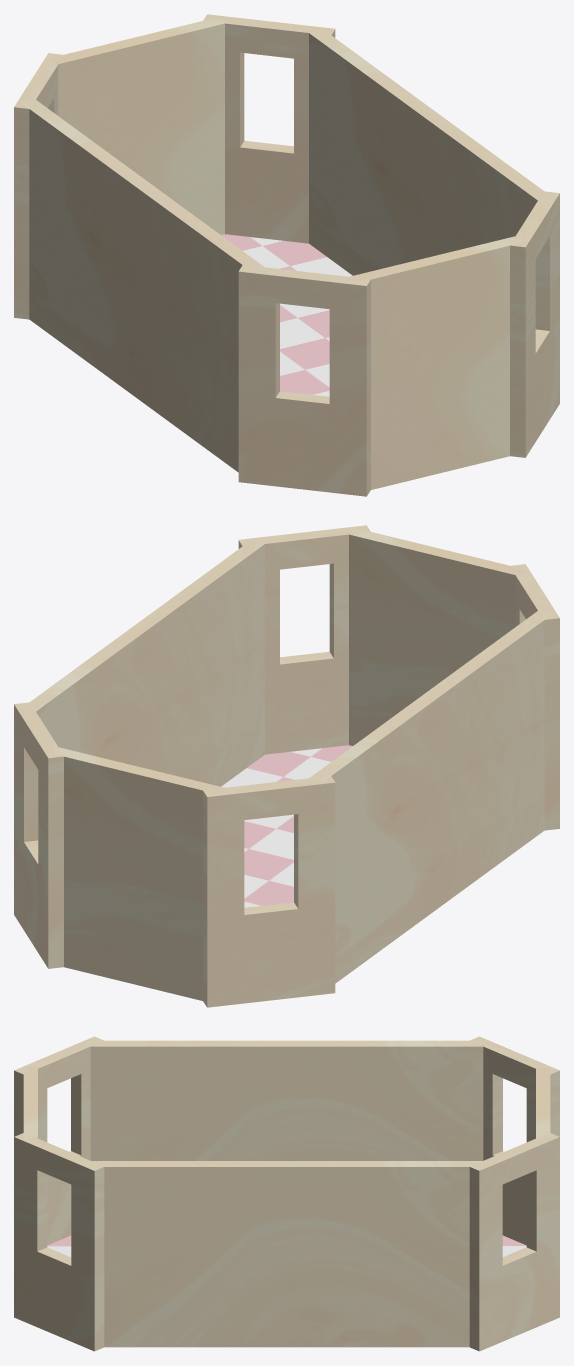
Rendered from FirstRoom_walls.glb.
3 renders of one model, top to bottom at view 1: azimuth 30°, elevation 25°; view 2: azimuth 150°, elevation 25°; view 3: azimuth 270°, elevation 25°, orthographic. The views are drawn at different scales.
Visible parts, largest first — view 1: walls, floor; view 2: walls, floor; view 3: walls, floor.
Part boxes in pixels (x1,y1,x2,y2): walls: (14,14,559,496); floor: (221,234,352,396); walls: (14,525,559,1007); floor: (221,745,352,907); walls: (14,1036,559,1351); floor: (47,1235,526,1256).
Size of the model in its own units: 11.18 by 7 by 19.18.
Materials: 2 (2 with a texture image).
